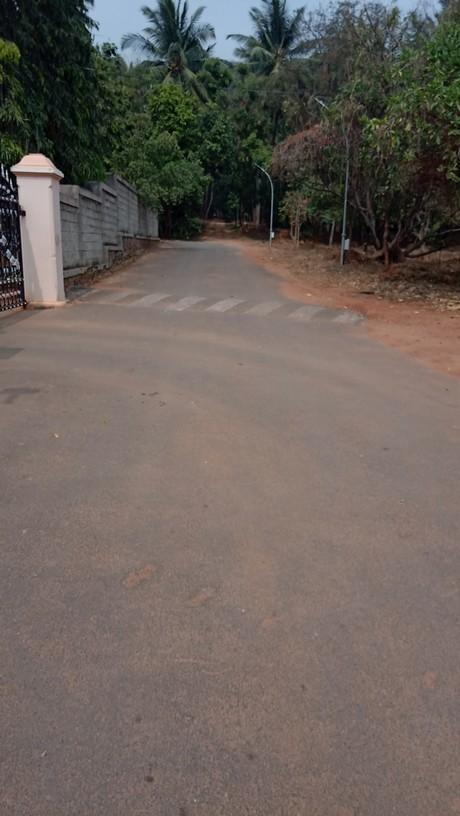speedbreaker: (64, 278, 368, 336)
